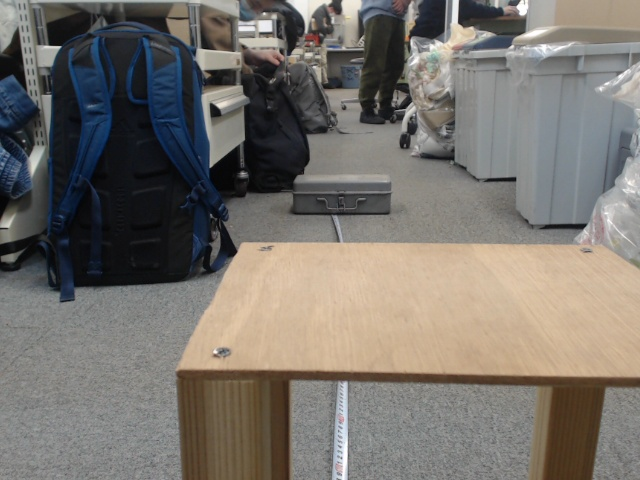desk: (245, 161, 470, 410)
